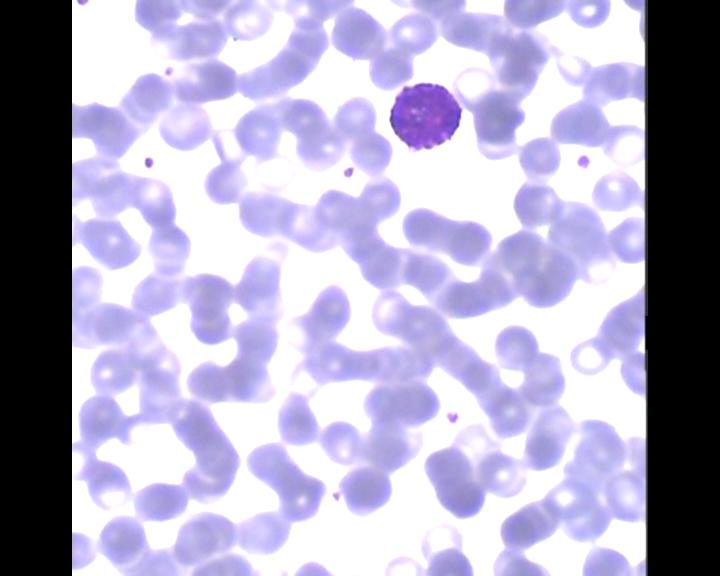baso: (383, 75, 469, 156)
